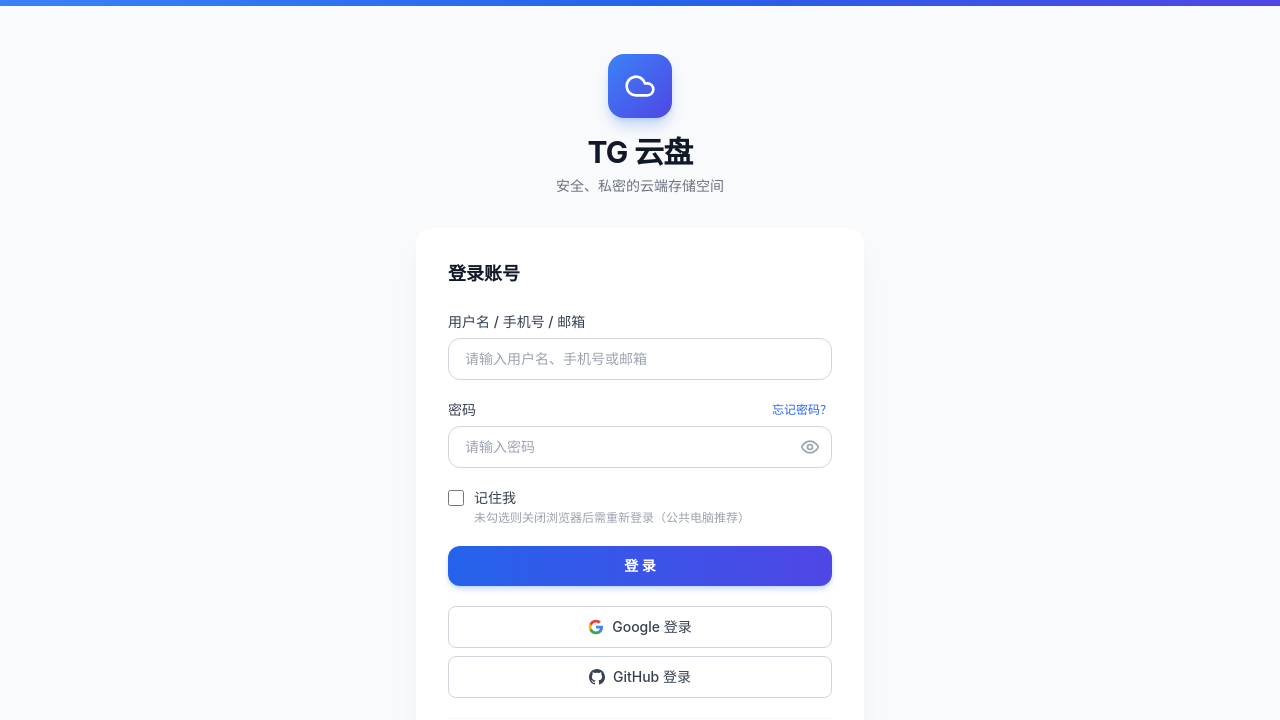
Scenario: Login page › closes forgot modal on X button
This screenshot has width=1280, height=720.
Click the button "忘记密码？". click: (802, 410)
box: [772,402,832,418]
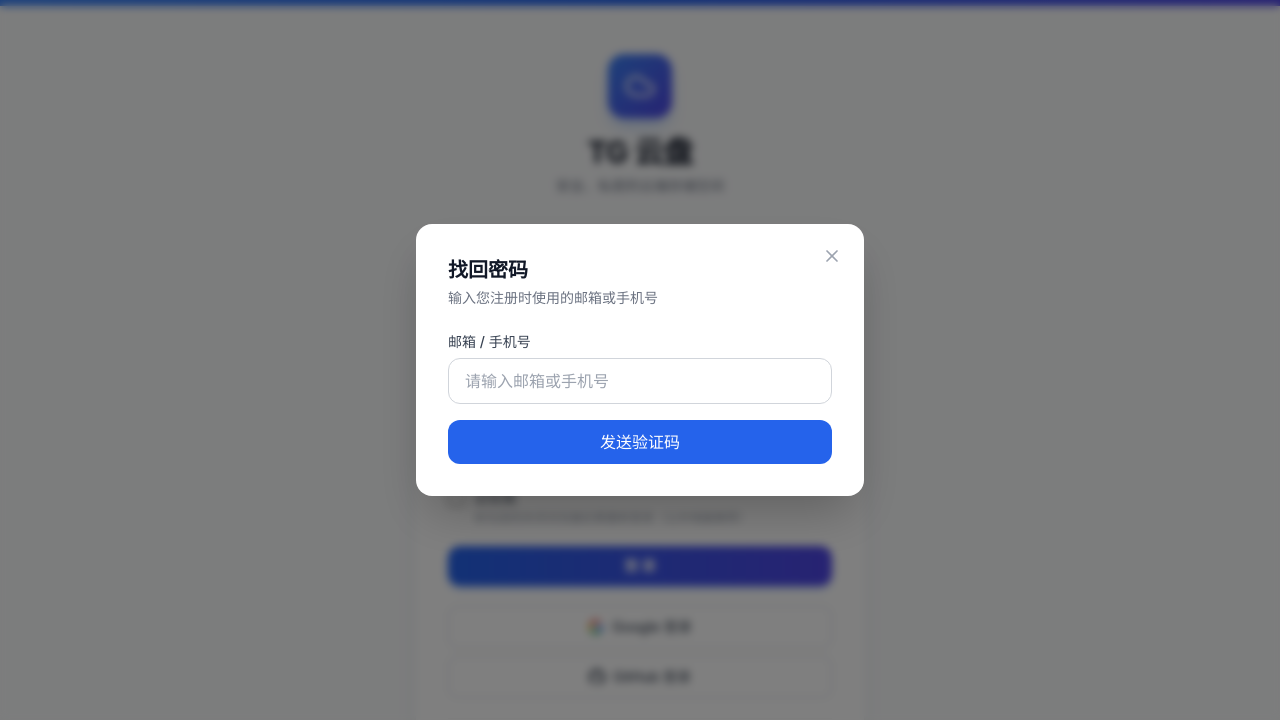
expect the heading "找回密码" is shown: met, box [448,258,528,282]
Click the 1st button. click: (832, 256)
box: [816,240,848,272]
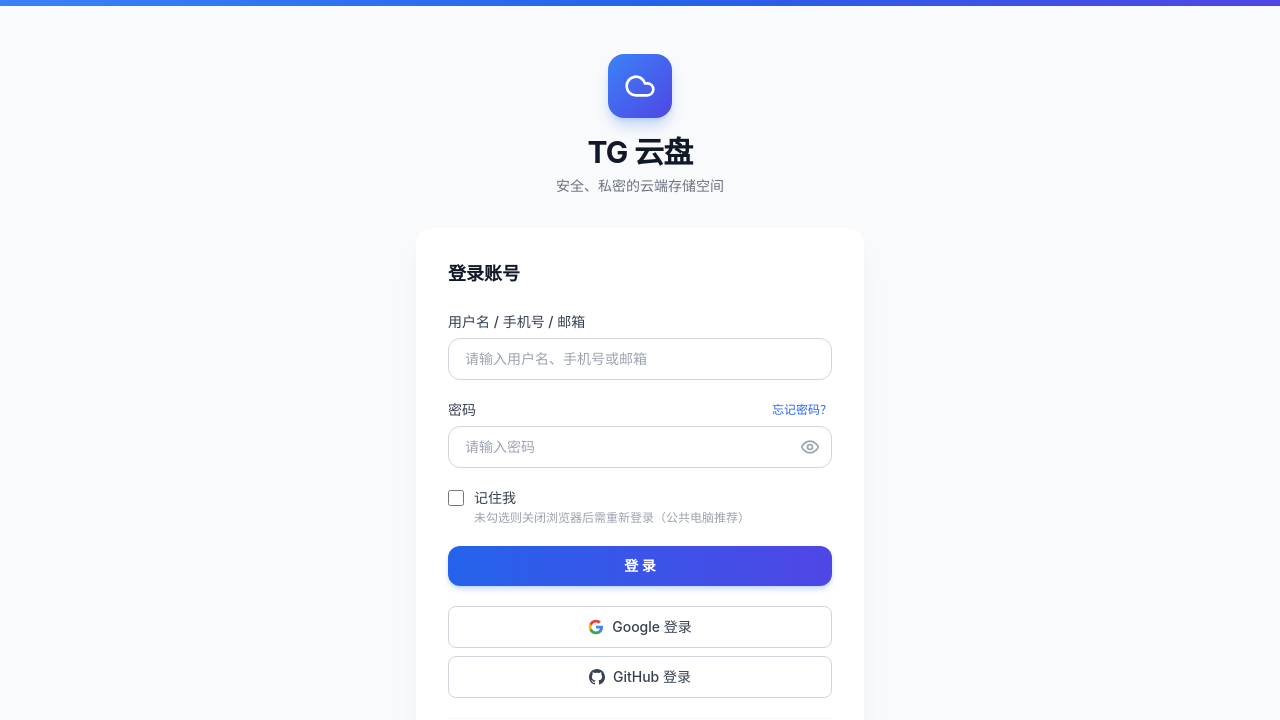
expect the heading "找回密码" is gone: met
